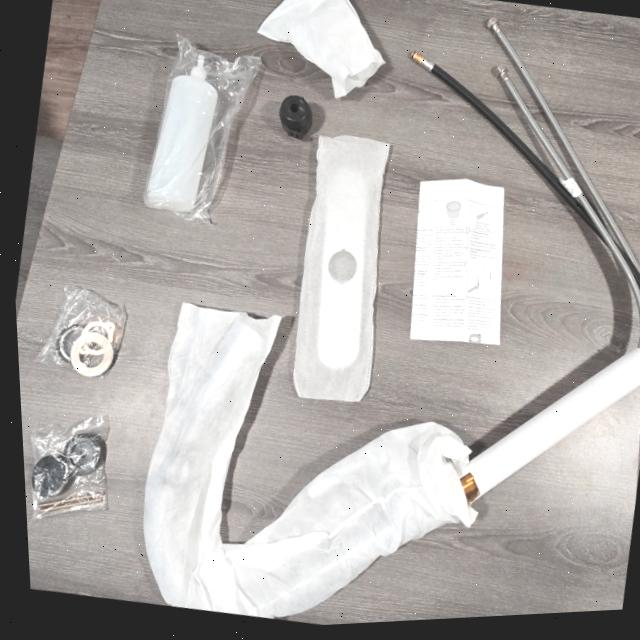1c: (142, 303, 640, 618), (408, 17, 640, 346)
2c: (256, 0, 383, 98)
3: (142, 36, 259, 222)
4c: (292, 135, 388, 401)
5: (278, 95, 311, 140)
6: (36, 285, 125, 377)
7: (30, 415, 108, 518)
8: (409, 179, 502, 344)
